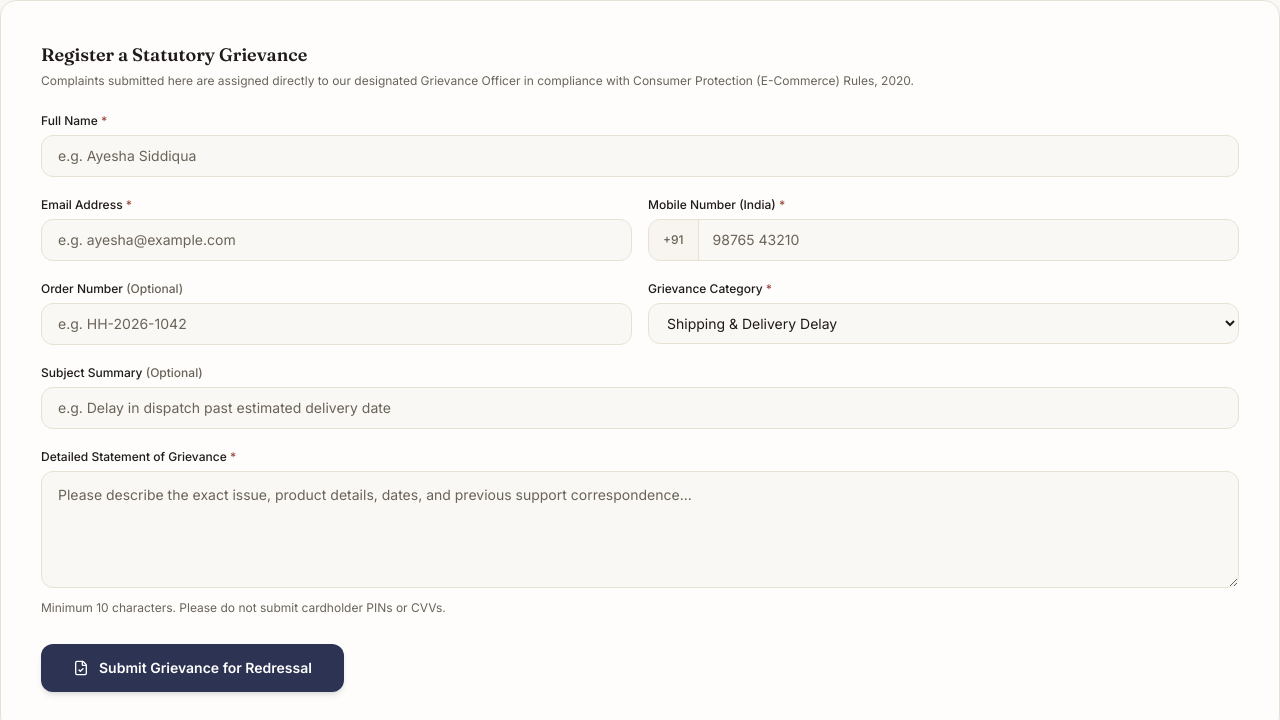
GrievanceForm Component › extracts and formats phone digits when typed or pasted
In the field labelled "Mobile Number (India) *": (968, 240) [699,220,1238,260], type "+91 98765 43210"
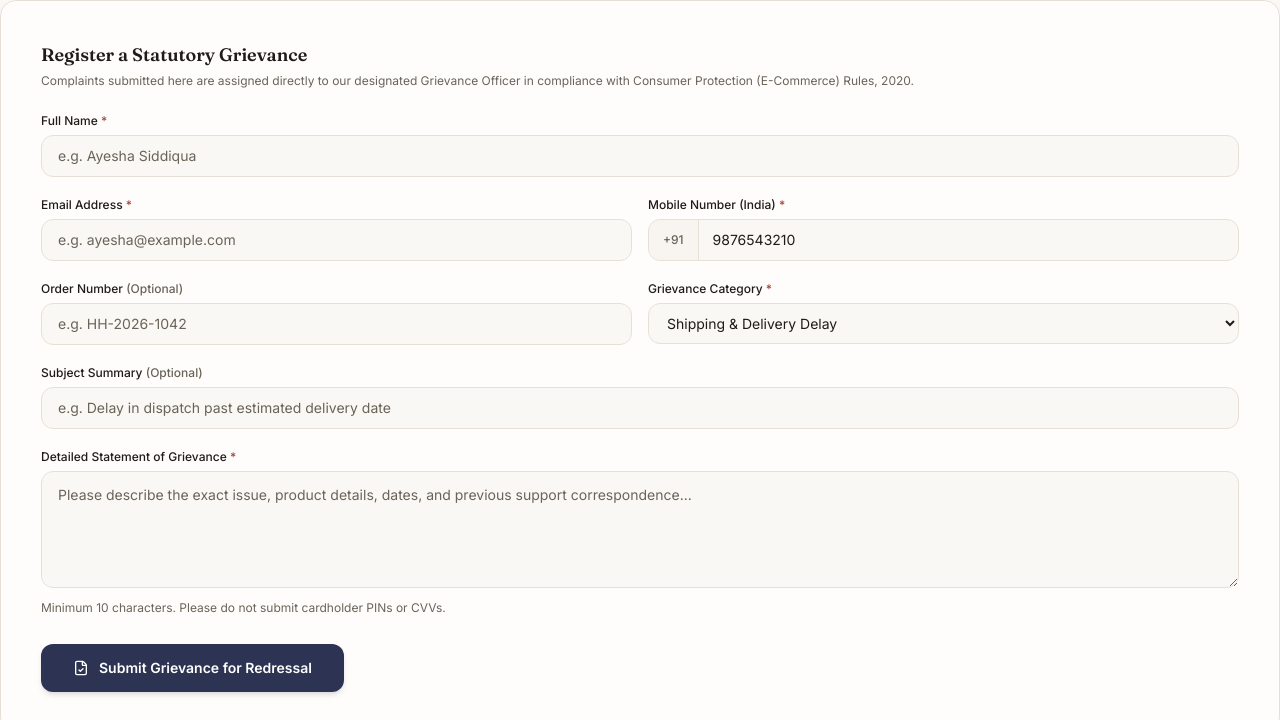
Now the field labelled "Mobile Number (India) *" holds "9876543210", box [699,220,1238,260]
